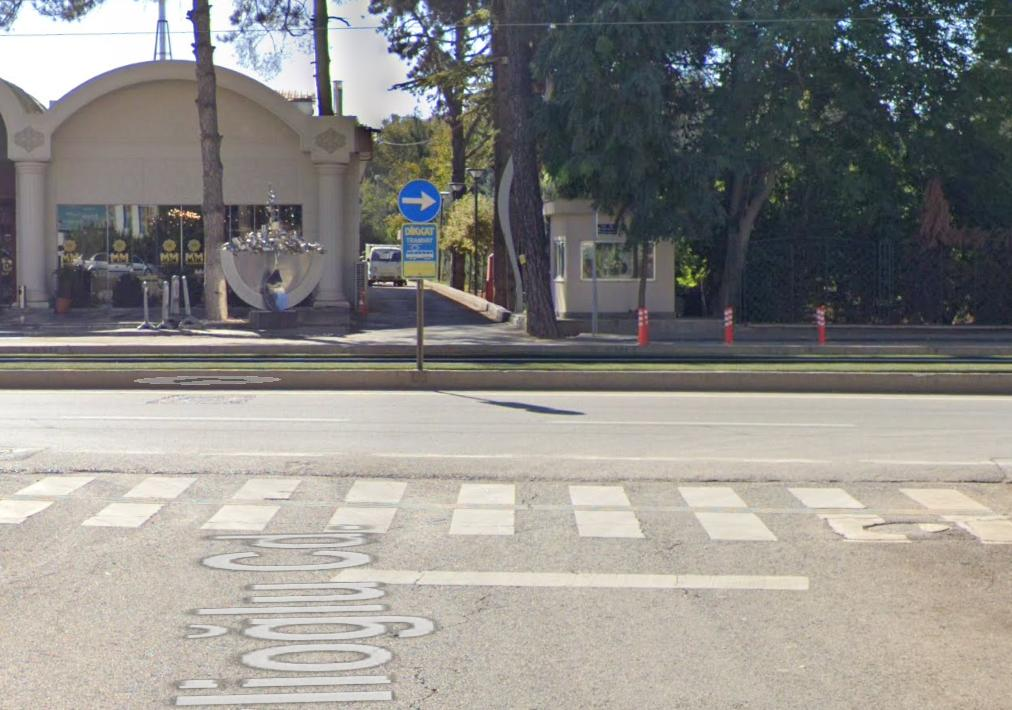turnright: (400, 179, 441, 221)
